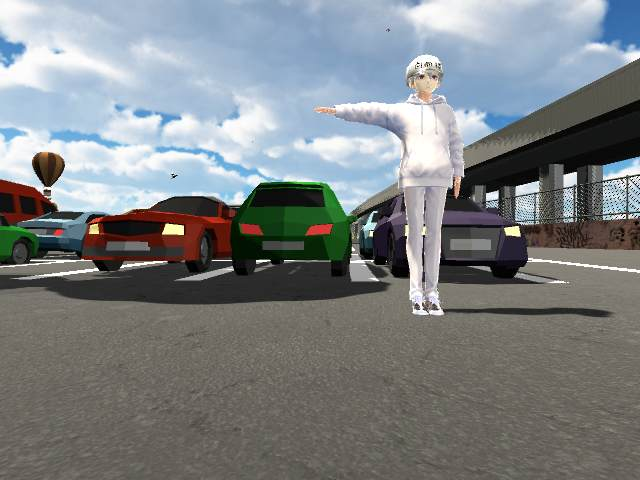singleP_left: (312, 53, 467, 317)
